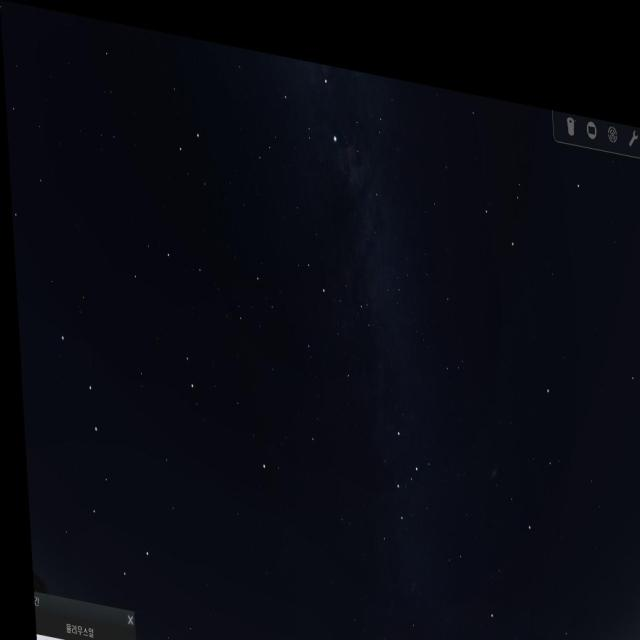cassiopeia: (350, 388, 430, 548)
ursa_major: (53, 312, 148, 585)
